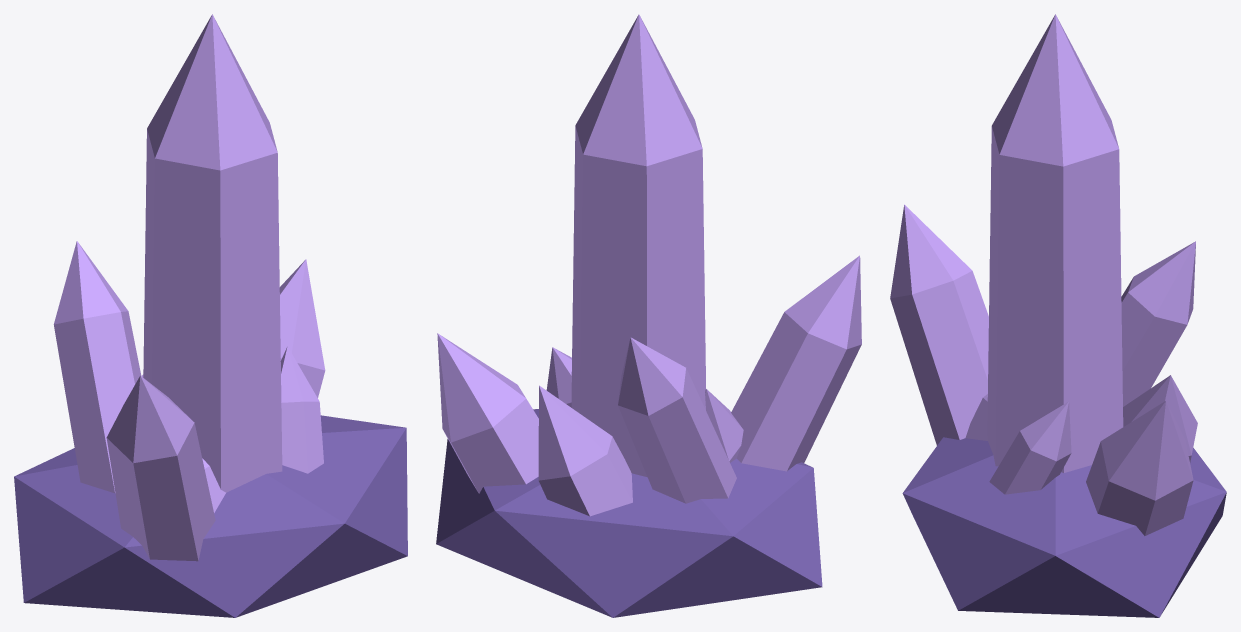
File: Plateau_Crystals0.fbx
The picture shows the model from 3 angles, left to right: view 1: azimuth 30°, elevation 25°; view 2: azimuth 150°, elevation 25°; view 3: azimuth 270°, elevation 25°; orthographic projection. The views are drawn at different scales.
Parts seen in each view (by area): view 1: Plateau_Crystals0; view 2: Plateau_Crystals0; view 3: Plateau_Crystals0.
Part boxes in pixels (x1,y1,x2,y2): Plateau_Crystals0: [14, 14, 407, 617]; Plateau_Crystals0: [436, 14, 861, 617]; Plateau_Crystals0: [890, 14, 1226, 617].
Size of the model in its own units: 2.17 by 3.13 by 1.69.
